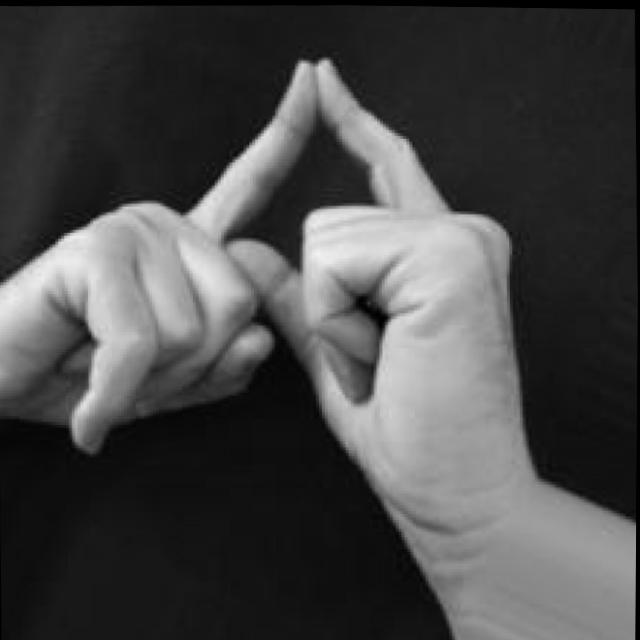D: (40, 46, 539, 536)
